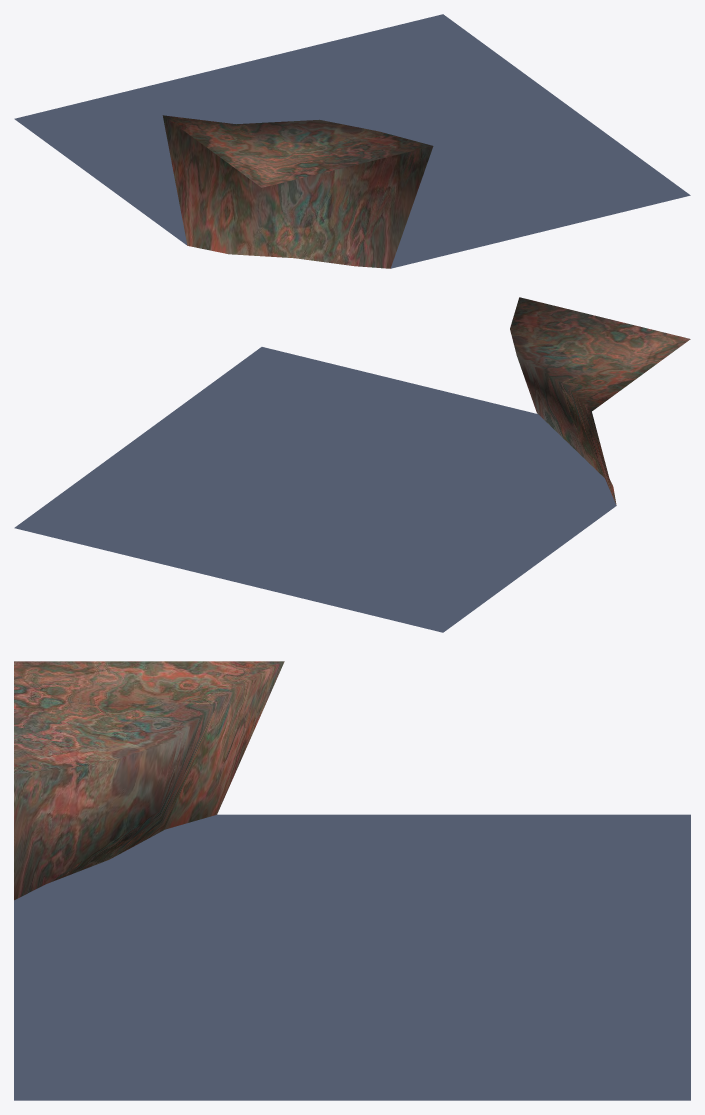
File: cave_water_convex1.glb
3 renders of one model, top to bottom at view 1: azimuth 30°, elevation 25°; view 2: azimuth 150°, elevation 25°; view 3: azimuth 270°, elevation 25°, orthographic. The views are drawn at different scales.
Parts seen in each view (by area): view 1: water_convex1; view 2: water_convex1; view 3: water_convex1.
Part boxes in pixels (x1,y1,x2,y2): water_convex1: [14, 14, 690, 268]; water_convex1: [14, 297, 690, 632]; water_convex1: [14, 661, 690, 1100].
Size of the model in its own units: 2 by 0.5005 by 2.
2 materials, 1 textured.
